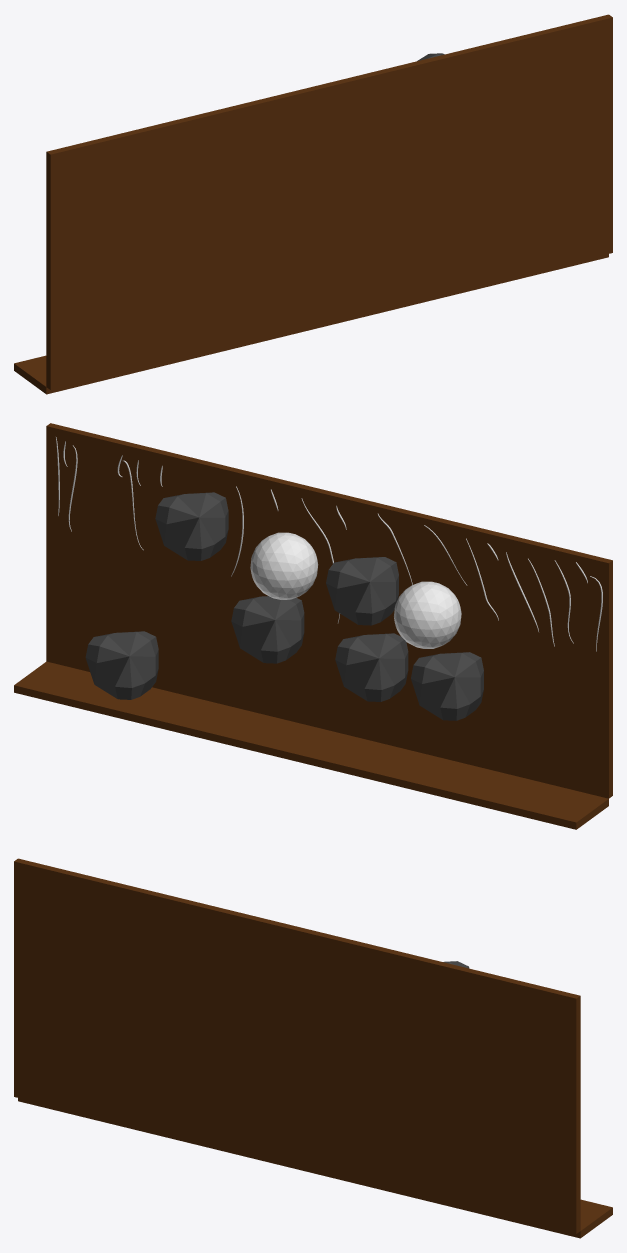
File: Dirt_Platform3.fbx
3 views of the same model, one above another, from view 1: azimuth 30°, elevation 25°; view 2: azimuth 150°, elevation 25°; view 3: azimuth 330°, elevation 25° (orthographic).
Visible parts, largest first — view 1: Cube.001; view 2: Cube.001, Cube.002, Cube.003, Cube.004, Cube.005, Cube.007, Cube.006, Icosphere.001, Icosphere, BezierCurve; view 3: Cube.001.
Part boxes in pixels (<box>): Cube.001: <box>14,14,612,394</box>; Cube.001: <box>14,423,612,829</box>; Cube.002: <box>155,492,228,560</box>; Cube.003: <box>411,652,483,720</box>; Cube.004: <box>335,633,408,701</box>; Cube.005: <box>85,631,158,699</box>; Cube.007: <box>326,557,398,625</box>; Cube.006: <box>231,596,304,663</box>; Icosphere.001: <box>394,581,461,648</box>; Icosphere: <box>250,532,318,599</box>; BezierCurve: <box>56,437,602,651</box>; Cube.001: <box>14,858,612,1238</box>.
Bounding box in the file's own units: 2000 × 825 × 231.
